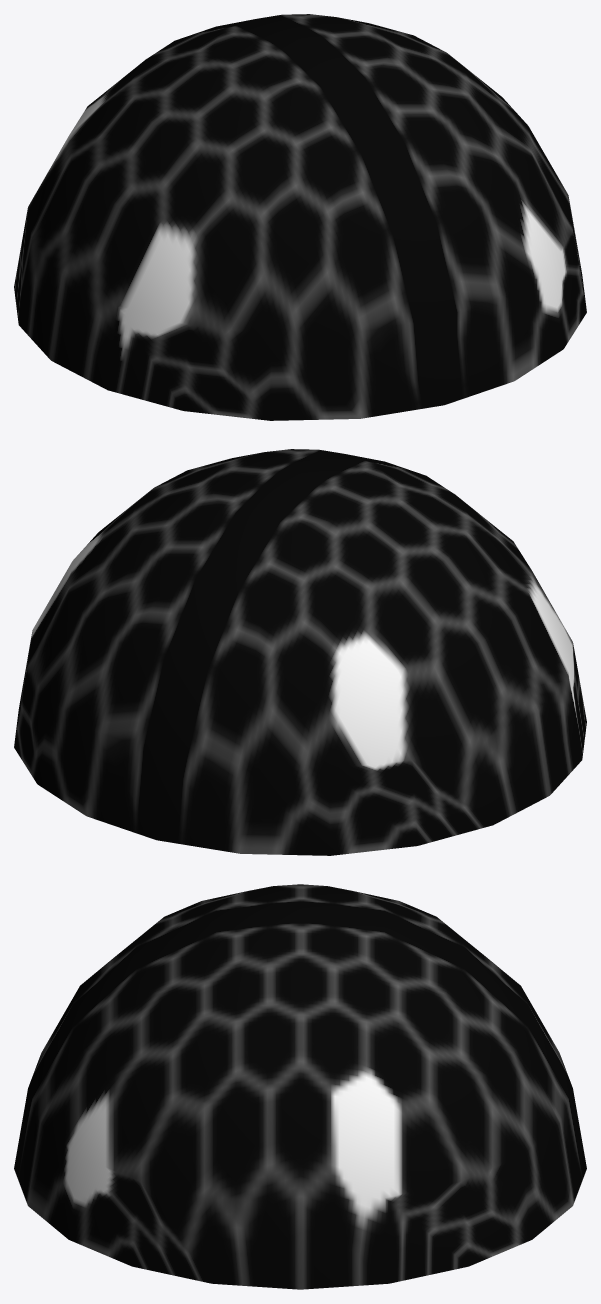
The model's file is shieldReflect.fbx.
3 views of the same model, one above another, from view 1: azimuth 30°, elevation 25°; view 2: azimuth 150°, elevation 25°; view 3: azimuth 270°, elevation 25° (orthographic).
Parts seen in each view (by area): view 1: shieldReflect; view 2: shieldReflect; view 3: shieldReflect.
Boxes of the visible parts, x1=… form: shieldReflect: x1=14, y1=14, x2=586, y2=420; shieldReflect: x1=14, y1=449, x2=586, y2=855; shieldReflect: x1=14, y1=884, x2=586, y2=1289.
Size of the model in its own units: 2 by 1 by 2.
